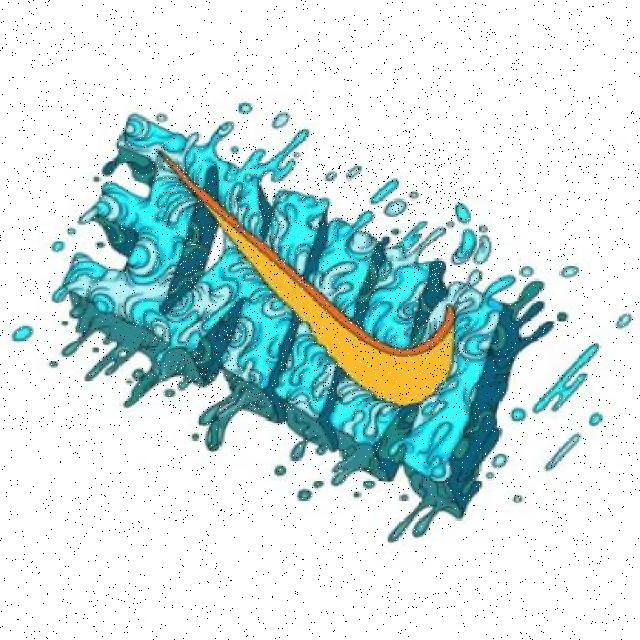Nike: (152, 147, 470, 410)
